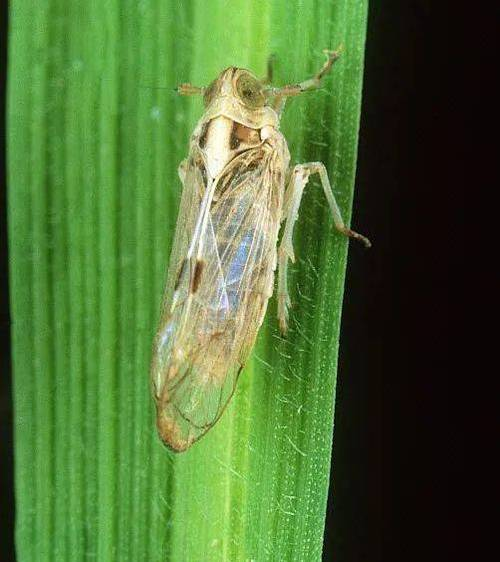Delphacidae: (146, 42, 373, 453)
